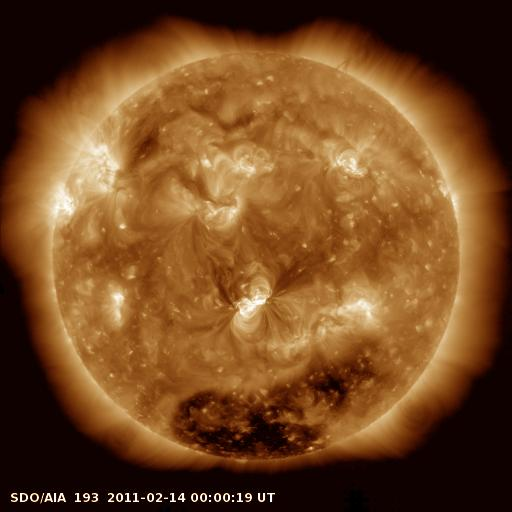coronal_hole: (165, 344, 390, 464)
